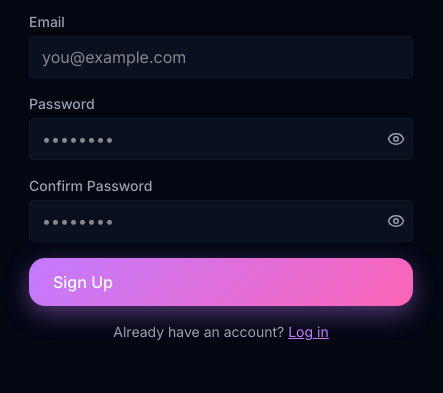
Test: SignupForm › preserves field values on error
This screenshot has width=443, height=393.
Type "test@example.com" into the field labelled "Email" at (221, 57), box [29, 36, 413, 78]
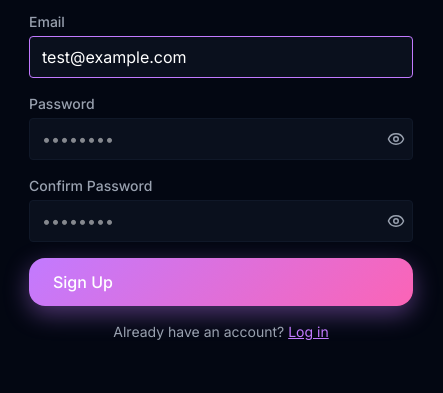
Type "short" into the password field labelled "Password" at (221, 139), box [29, 118, 413, 160]
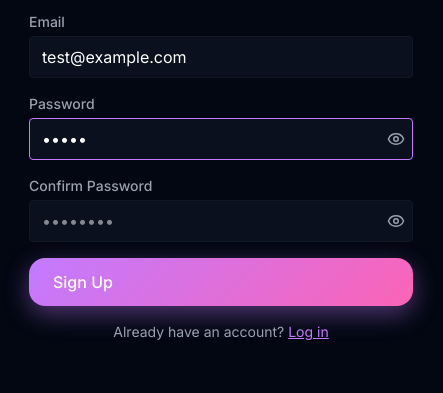
Type "short" into the password field labelled "Confirm Password" at (221, 221), box [29, 200, 413, 242]
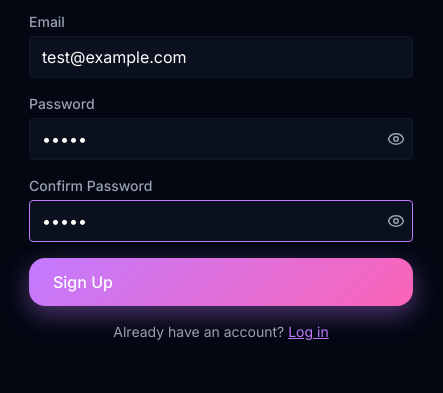
Click the button "Sign Up" at (83, 282), box [29, 258, 413, 306]
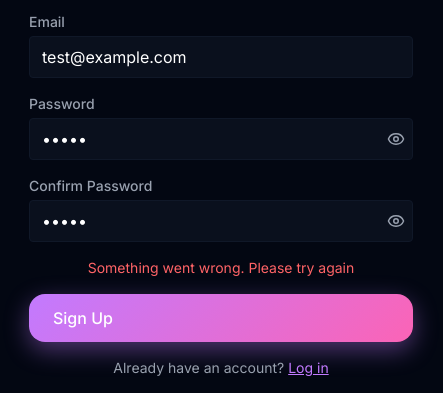
expect the message "Something went wrong. Please try again" is shown: met, box [88, 259, 354, 276]
